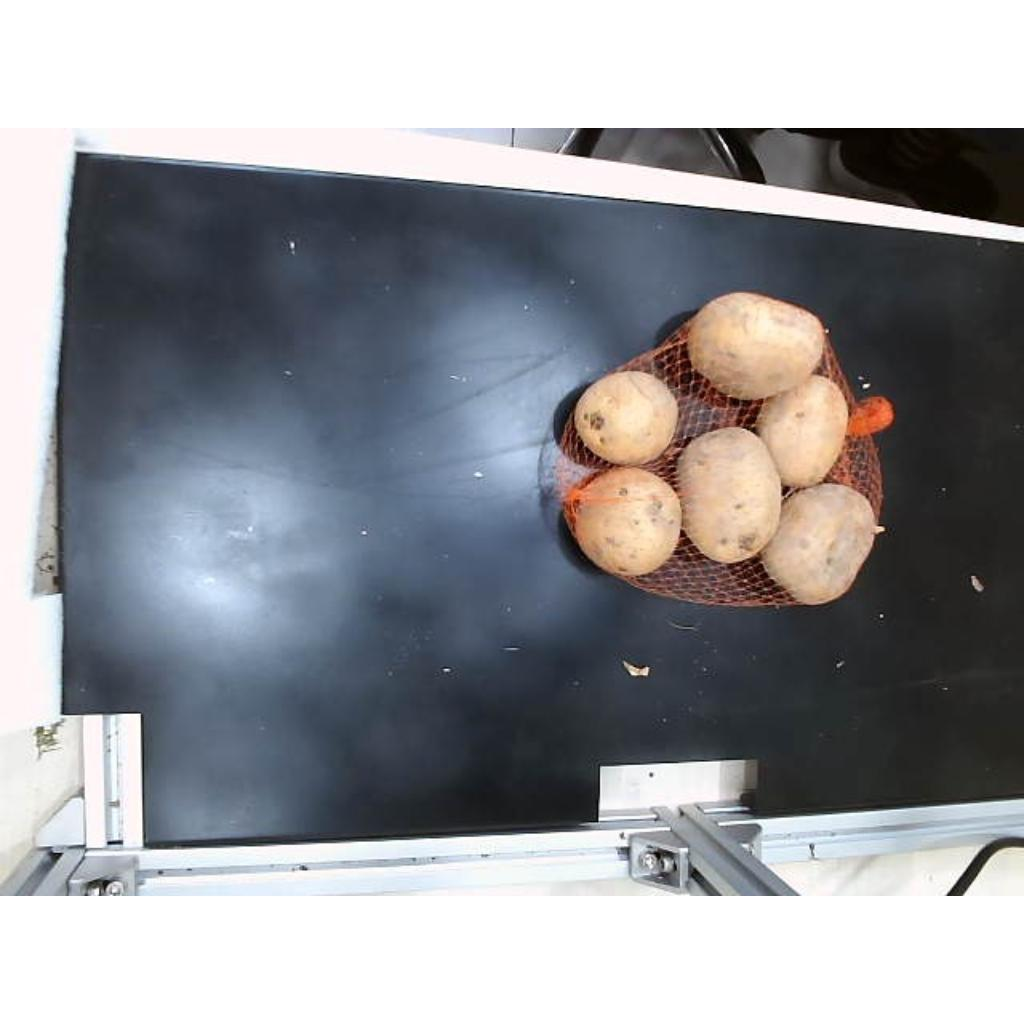potato: (676, 428, 782, 563), (690, 294, 826, 399), (762, 484, 876, 604), (566, 468, 680, 576), (756, 376, 848, 487), (574, 372, 678, 465)
